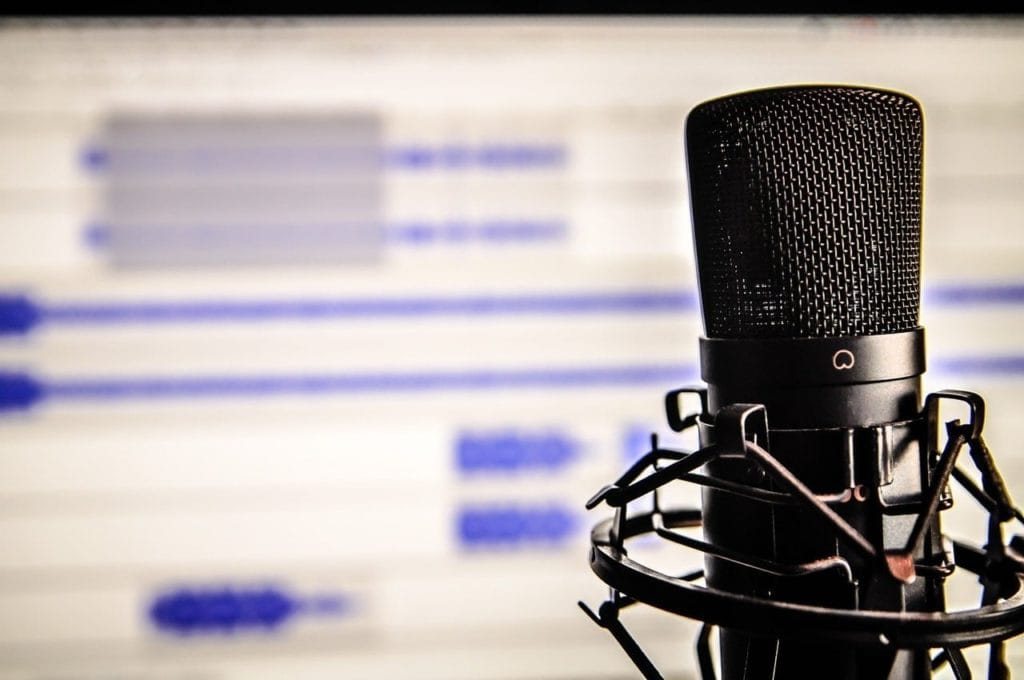microphone: (569, 81, 1024, 680)
